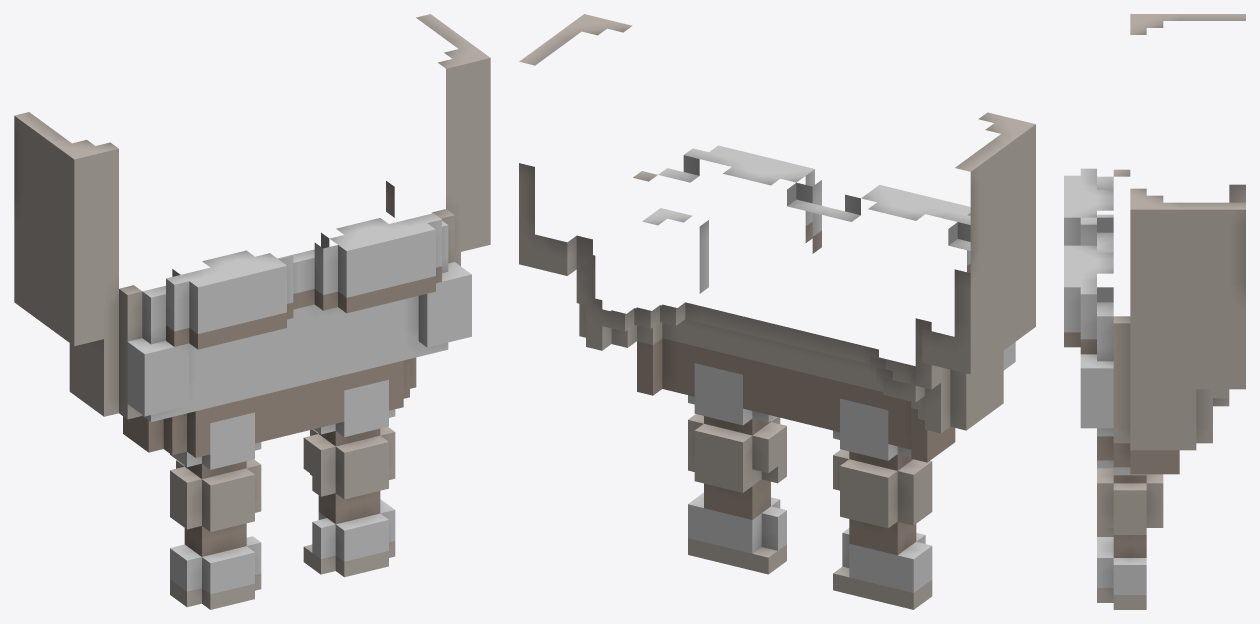
The model's file is beard_full_braided.glb.
3 views of the same model, side by side, from view 1: azimuth 30°, elevation 25°; view 2: azimuth 150°, elevation 25°; view 3: azimuth 270°, elevation 25° (orthographic). The views are drawn at different scales.
Parts seen in each view (by area): view 1: VoxelVisual; view 2: VoxelVisual; view 3: VoxelVisual.
Boxes of the visible parts, <box> form: VoxelVisual: <box>14,14,490,609</box>; VoxelVisual: <box>519,14,1035,609</box>; VoxelVisual: <box>1064,14,1245,609</box>.
Size of what is drawn, in the model's own units: 1.75 by 1.88 by 0.6875.
